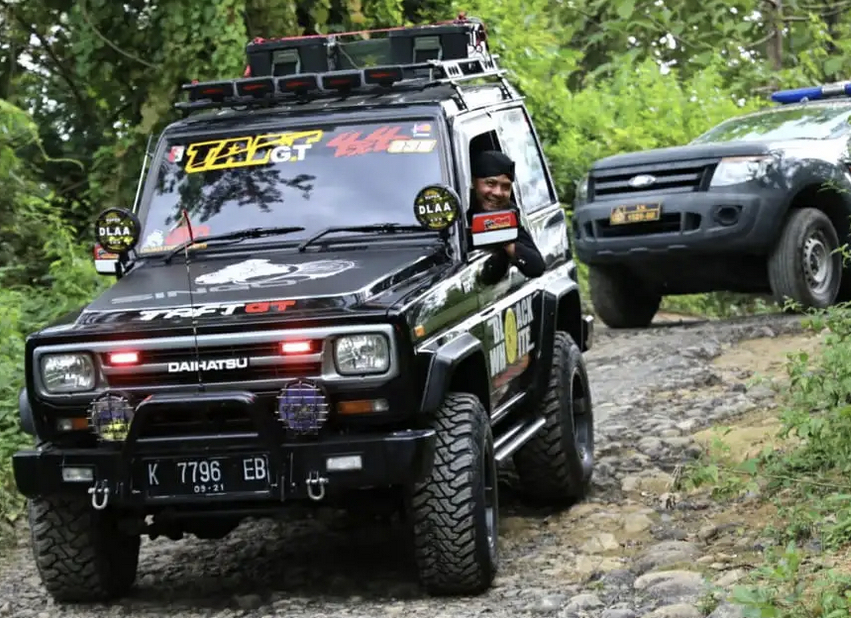Mobil: (128, 450, 294, 501), (596, 196, 681, 234)
Motor: (3, 14, 619, 609), (579, 62, 851, 320)
